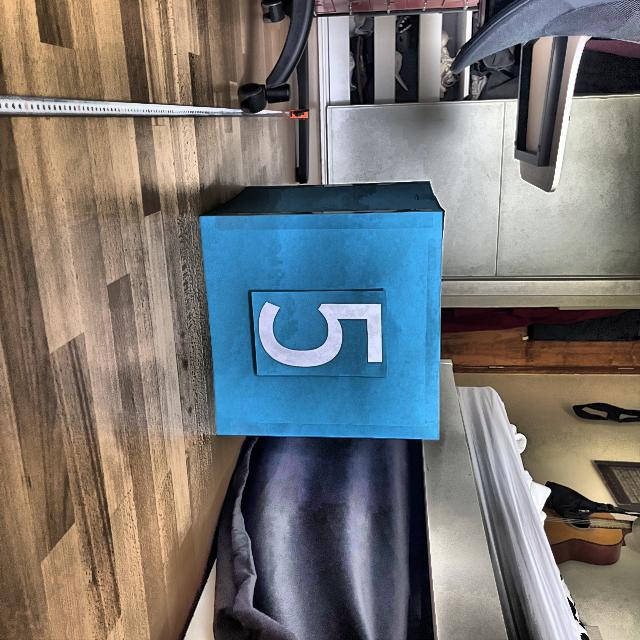blue box: (198, 172, 447, 448)
five: (250, 292, 394, 375)
